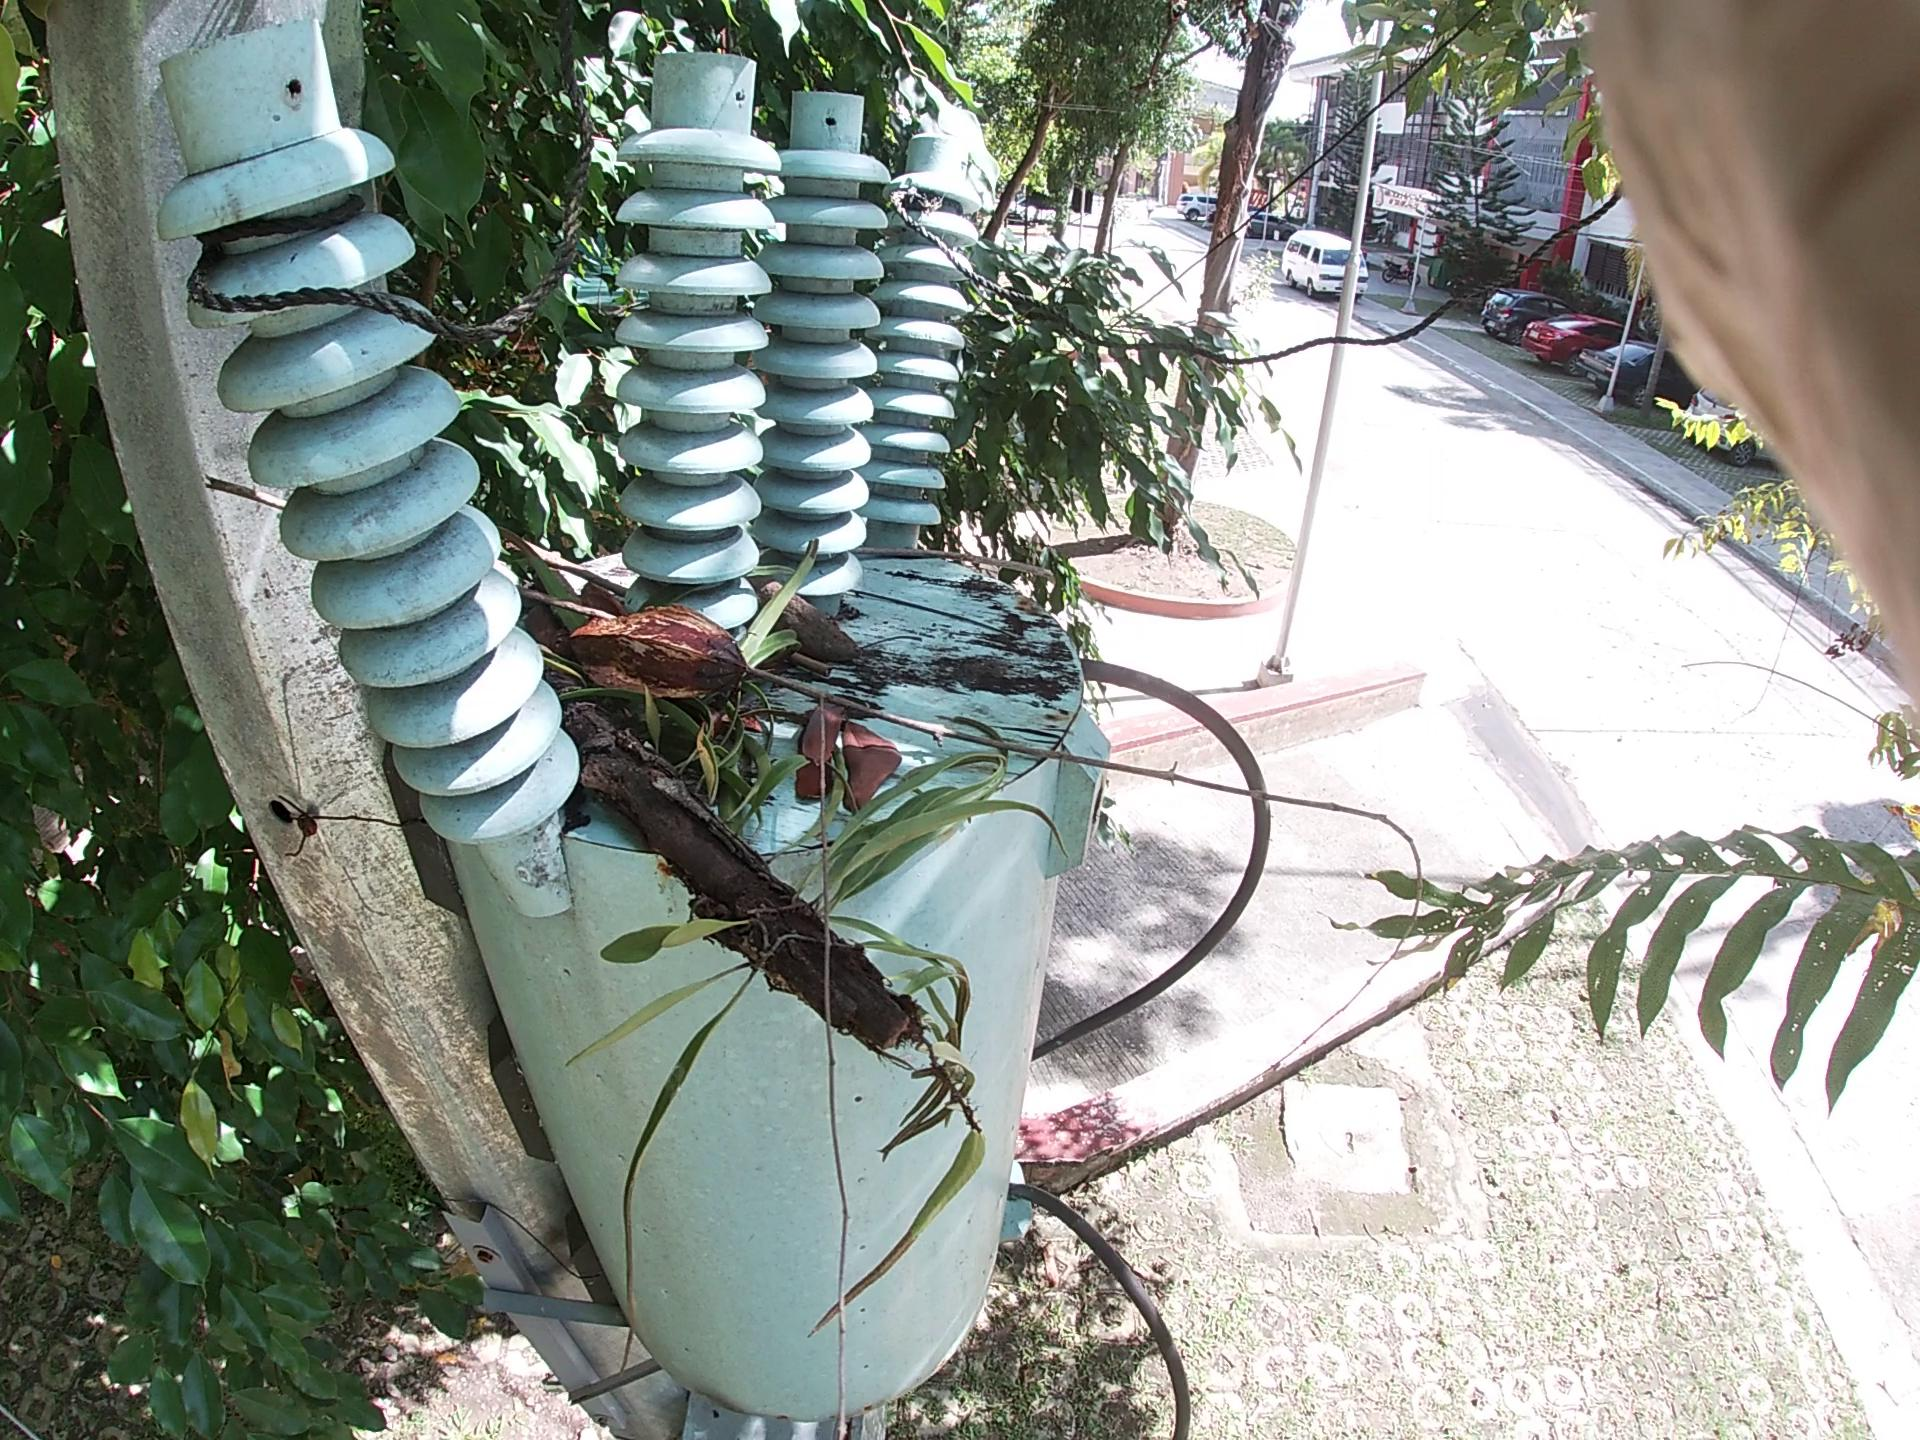branch with leaves: (478, 575, 1019, 1144)
leaf: (757, 694, 948, 871)
mahogany fruit: (544, 584, 695, 735), (739, 563, 872, 694)
tree branch: (514, 585, 1494, 915)
